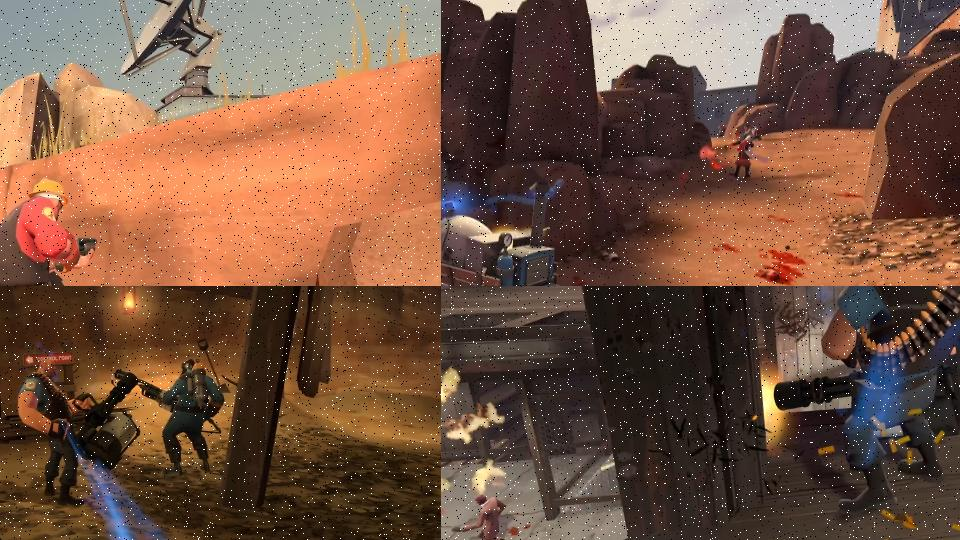Enemy: (772, 286, 960, 516), (17, 358, 140, 507), (115, 358, 224, 476), (0, 172, 110, 286), (451, 493, 507, 540), (724, 123, 762, 180)
